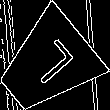L_SW: (18, 37, 75, 94)
